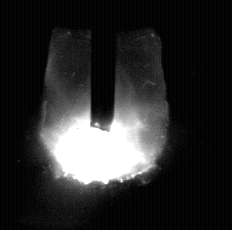arame: (91, 0, 116, 131)
poca: (38, 0, 168, 230)
